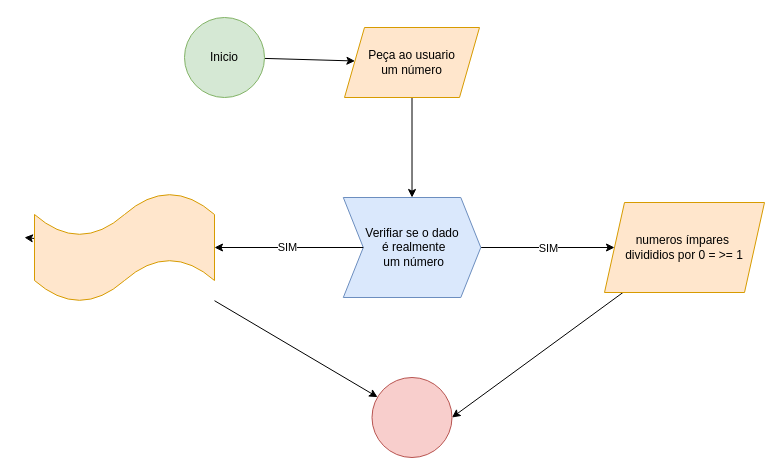
Image size: 782x475. Some labels were removed from this diagram. Each missing label, with the centre of its shape:
FIM: (411,417)
Numeros pares divididios por 2 = 0: (124,247)
